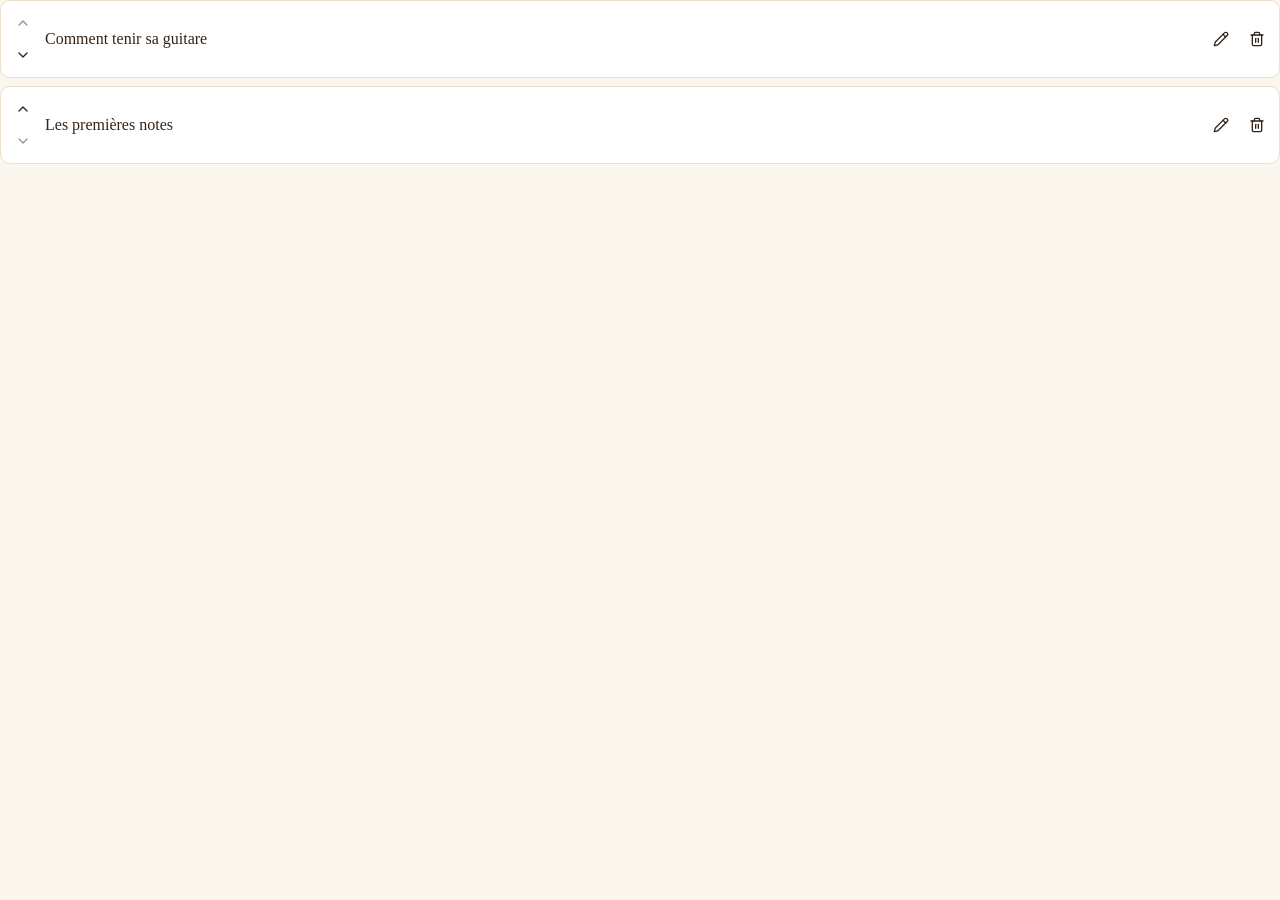
Scenario: Lesson UI Integration › LessonList › should open the edit dialog pre-filled with the lesson's data
The width and height of the screenshot is (1280, 900).
Click the 2nd button.
click(1221, 39)  # box [1207,25,1235,53]
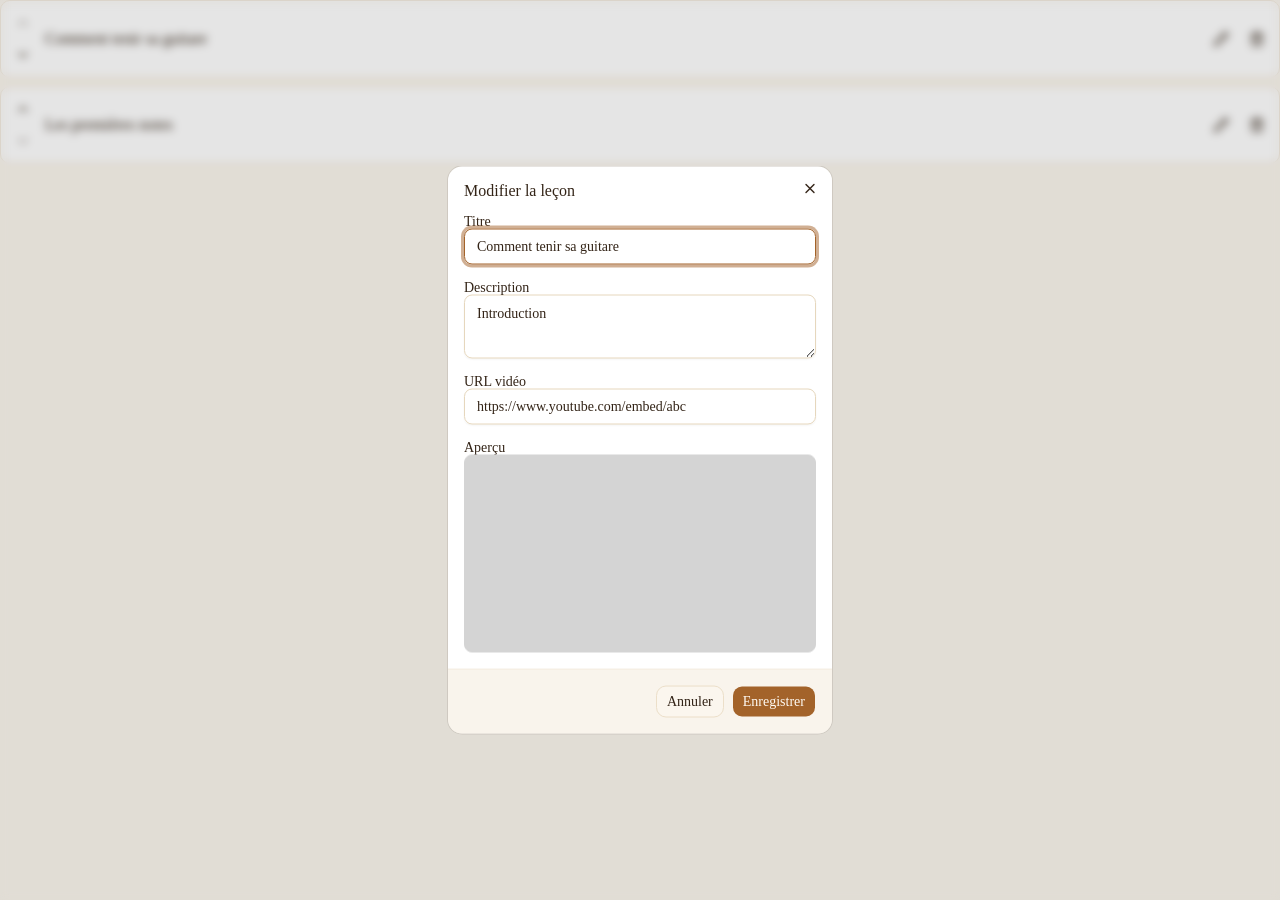
Now the heading "Modifier la leçon" is shown, box [464,182,575,198]
Now the field labelled "Titre" holds "Comment tenir sa guitare", box [464,228,816,264]
